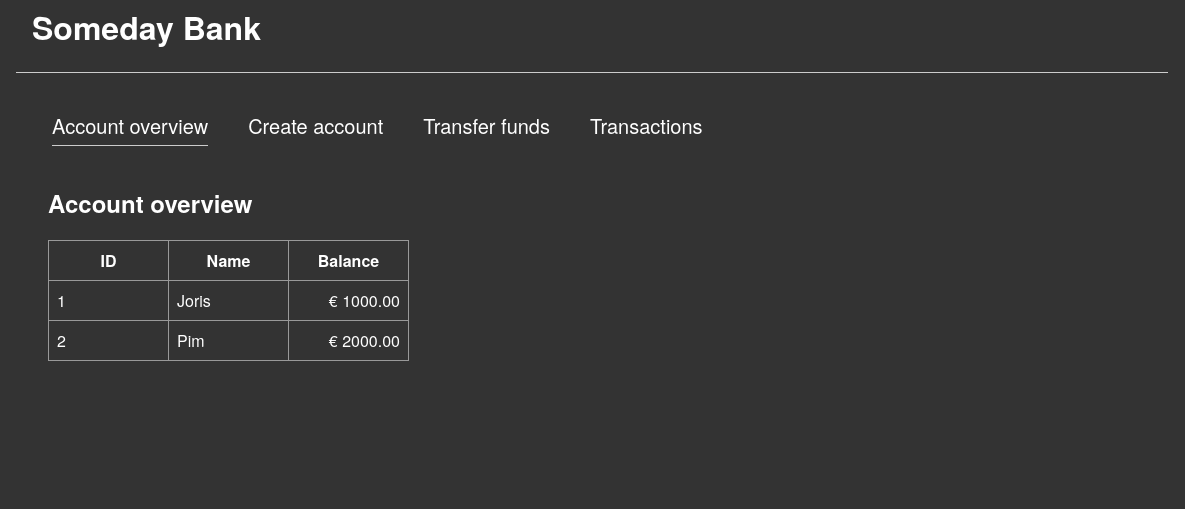
Test: Actions › should update the transaction log when a transfer is done
Click the link "Transfer funds": click(487, 126) left=423, top=111, right=550, bottom=140
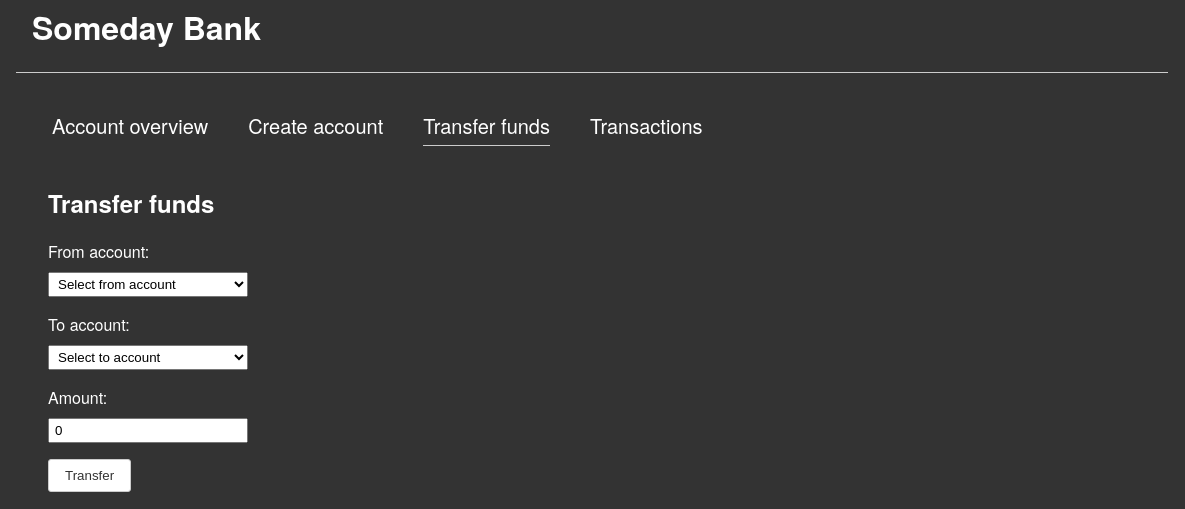
Select "Joris" in the dropdown with id "from_account": (148, 285) left=48, top=272, right=248, bottom=297
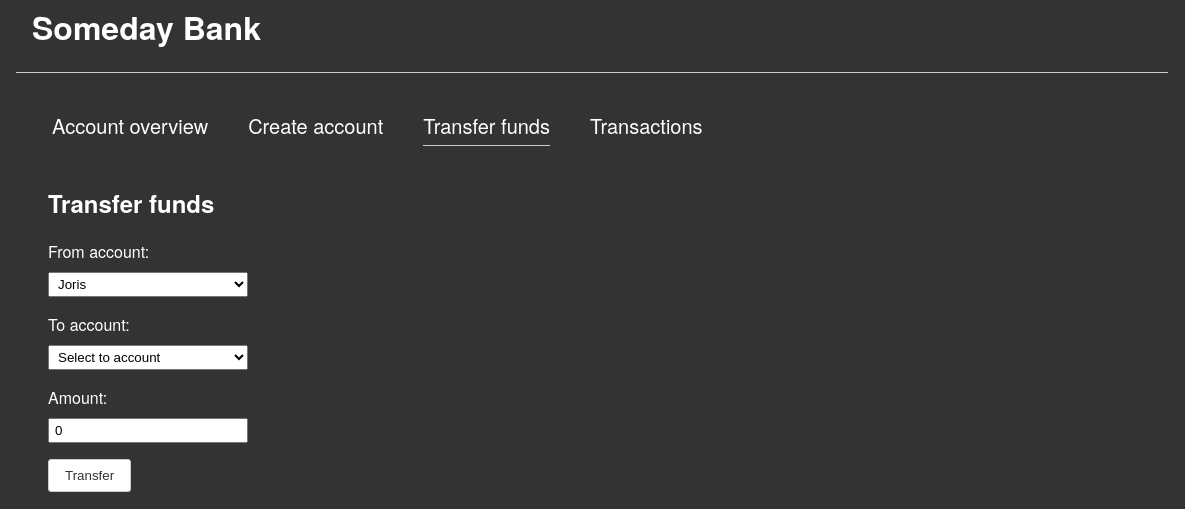
Select "Pim" in the dropdown with id "to_account": (148, 358) left=48, top=345, right=248, bottom=370
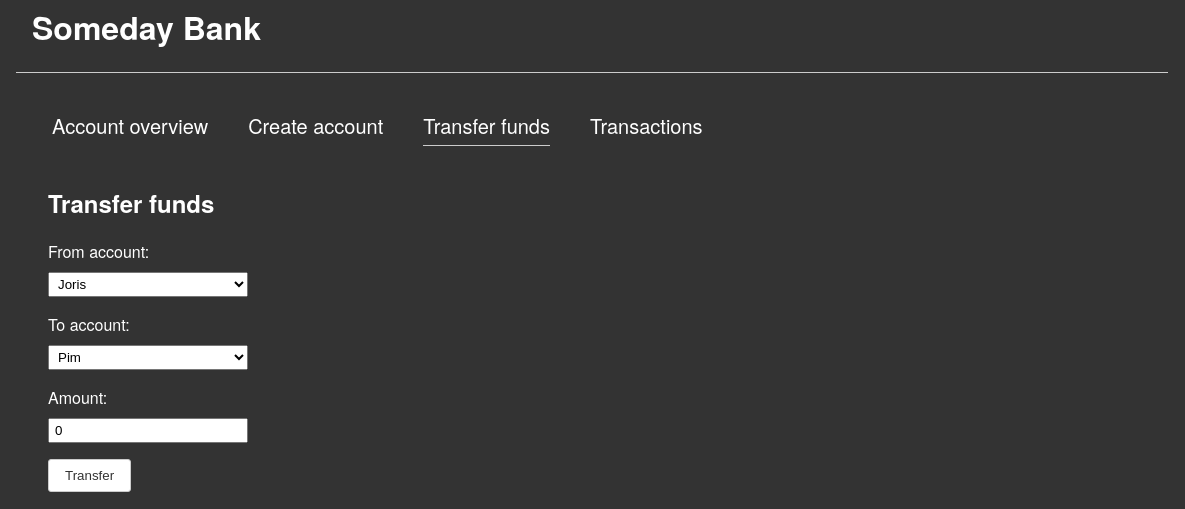
In the number field named "amount": (148, 431) left=48, top=418, right=248, bottom=443, type "400"
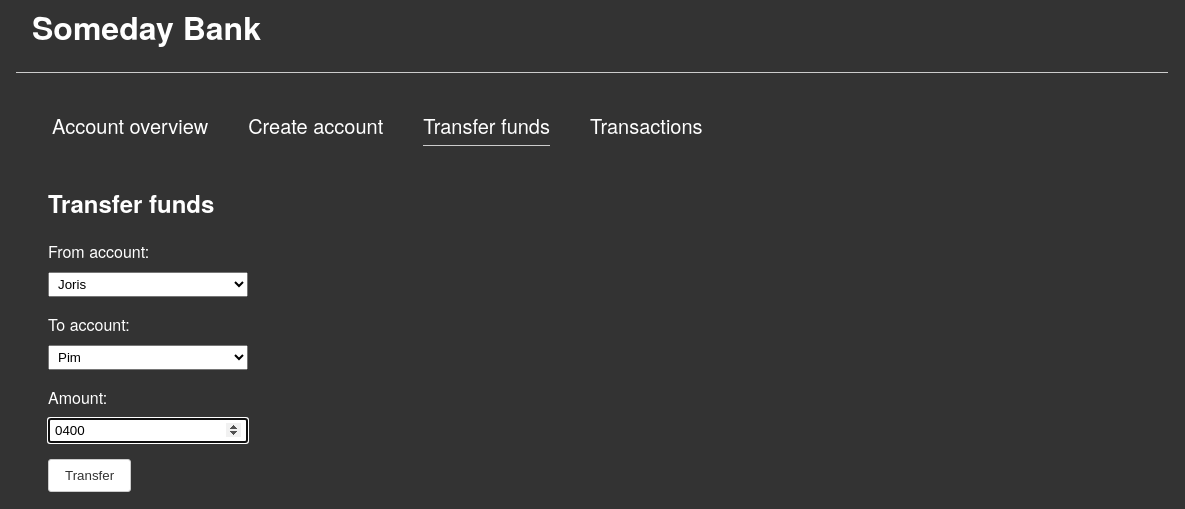
Click the button "Transfer": click(90, 476) left=48, top=459, right=131, bottom=492
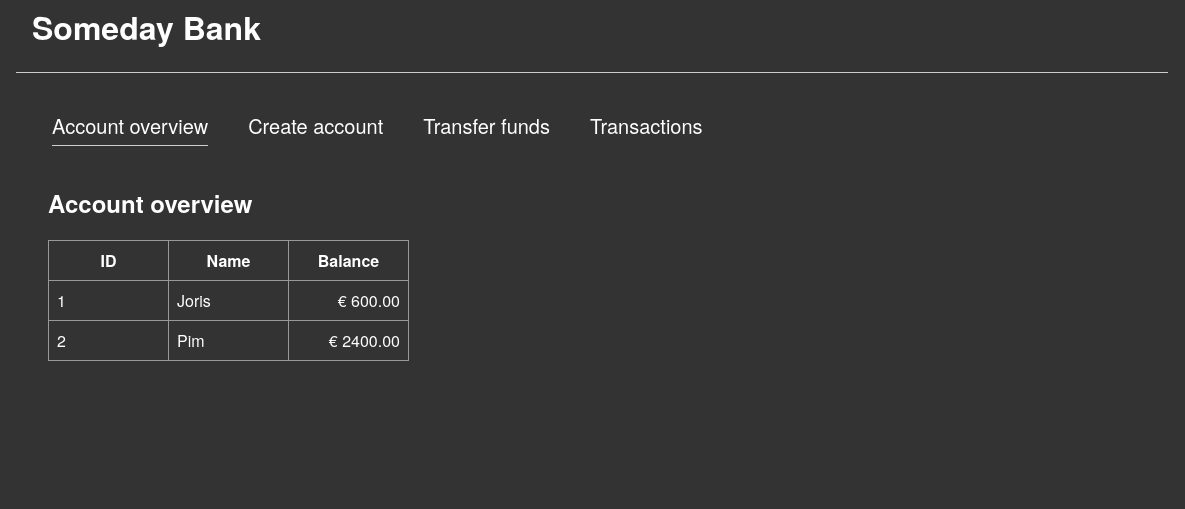
Click the link "Transactions": click(647, 126) left=590, top=111, right=703, bottom=140
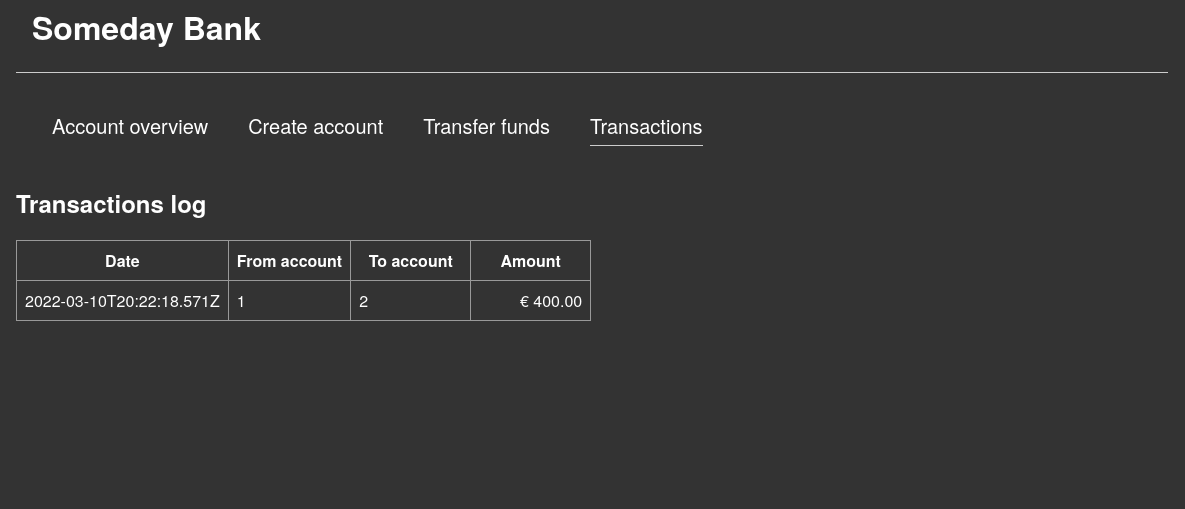
Expected: the heading "Transactions log" is shown, left=16, top=186, right=206, bottom=220
Expected: the text "400.00" is shown, left=520, top=289, right=582, bottom=312
